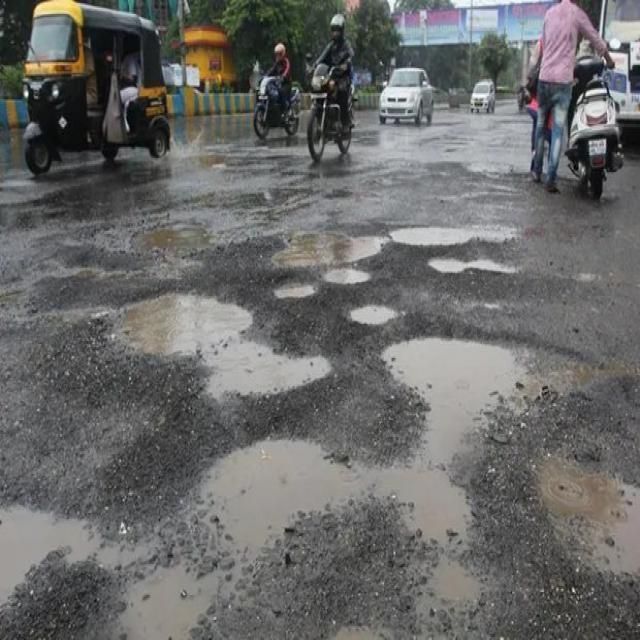pothole: (374, 328, 617, 623), (102, 285, 337, 400), (199, 419, 368, 574), (539, 442, 639, 597), (7, 485, 97, 600), (122, 557, 219, 639), (268, 225, 386, 273), (127, 214, 220, 264), (390, 217, 525, 248), (427, 251, 532, 282), (200, 149, 263, 182), (351, 298, 402, 329), (66, 259, 116, 290), (266, 278, 319, 303), (320, 268, 370, 290)
